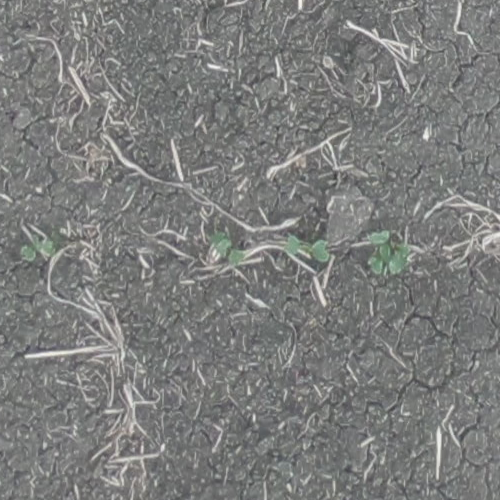plant: (370, 230, 410, 277), (287, 234, 330, 265), (210, 234, 244, 265), (23, 236, 56, 262)
